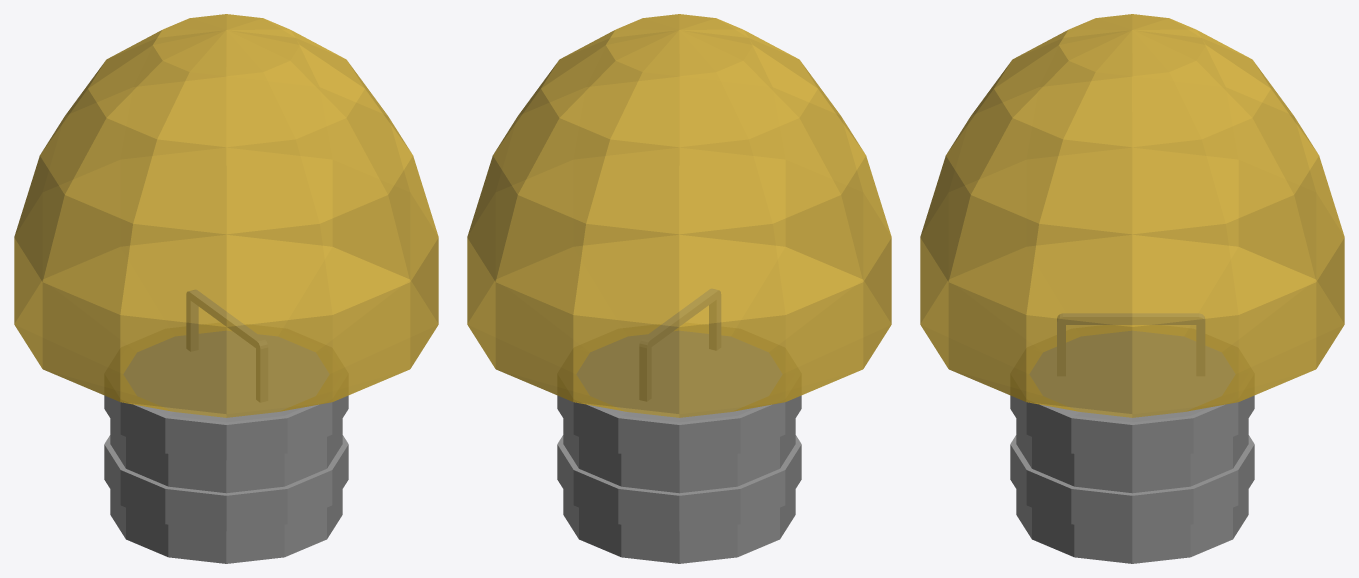
Rendered from lightbulb.glb.
The picture shows the model from 3 angles, left to right: view 1: azimuth 30°, elevation 25°; view 2: azimuth 150°, elevation 25°; view 3: azimuth 270°, elevation 25°; orthographic projection.
Visible parts, largest first — view 1: bulb; view 2: bulb; view 3: bulb.
Part boxes in pixels (x1,y1,x2,y2): bulb: (14,14,438,563); bulb: (467,14,891,563); bulb: (920,14,1344,563).
Size of the model in its own units: 1.75 by 2.21 by 1.75.
